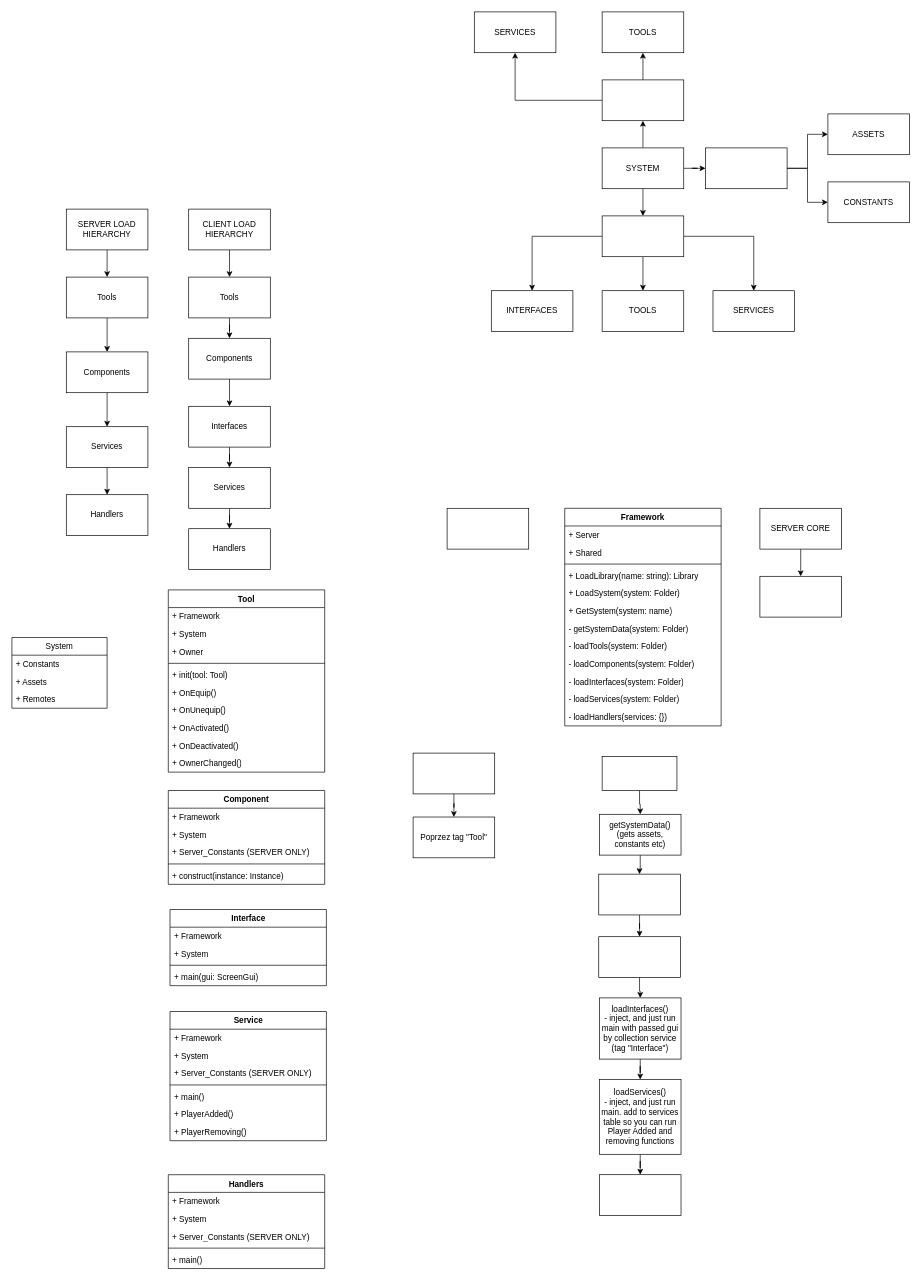
Some shapes in this 921 by 1282 pixel diagram are drawn without their labels. Here are the shapes that lost their labels. From the top down, the centre of each, then its label:
At (642,100): "SERVER".
At (746,168): "SHARED".
At (642,236): "CLIENT".
At (487,528): "CLIENT CORE".
At (800,596): "PlayerAdded".
At (453,773): "LoadTools()".
At (639,773): "Load System".
At (639,894): "loadTools() - inject system data and framework".
At (639,957): "loadComponents() - inject system data and framework".
At (640,1195): "loadHandlers() - inject, and just run main".
